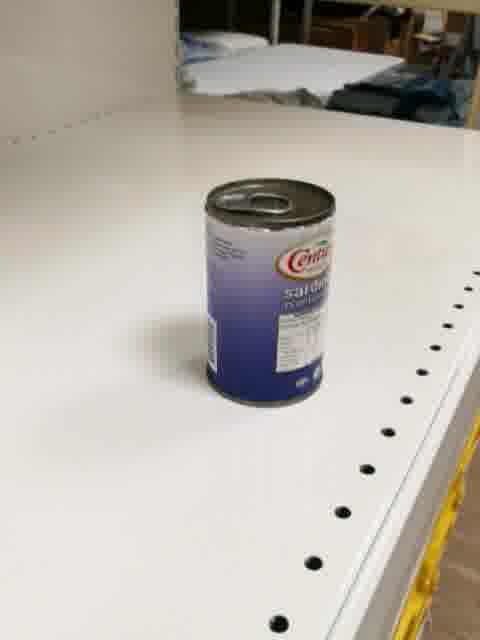sardine: (202, 176, 336, 411)
